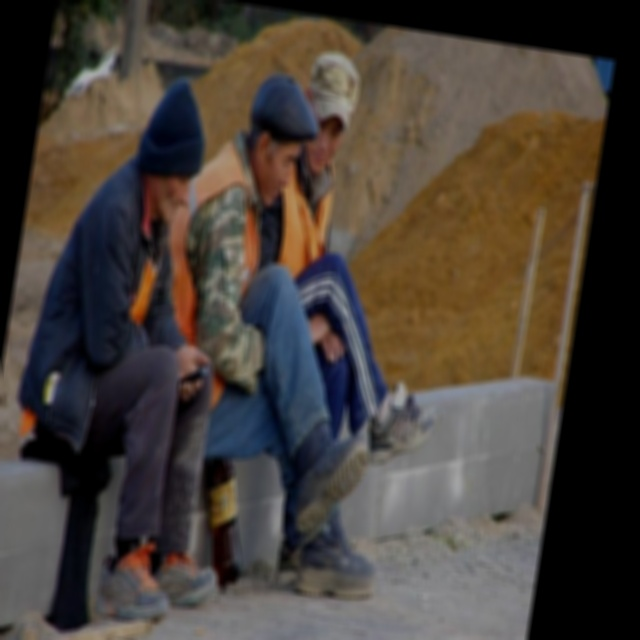Sin_Casco_Mascarrilla: (128, 72, 213, 229), (239, 69, 326, 213), (295, 51, 364, 182)
